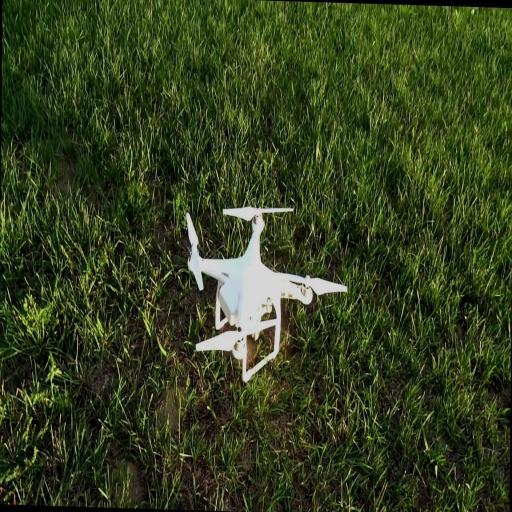drone: (180, 198, 348, 388)
